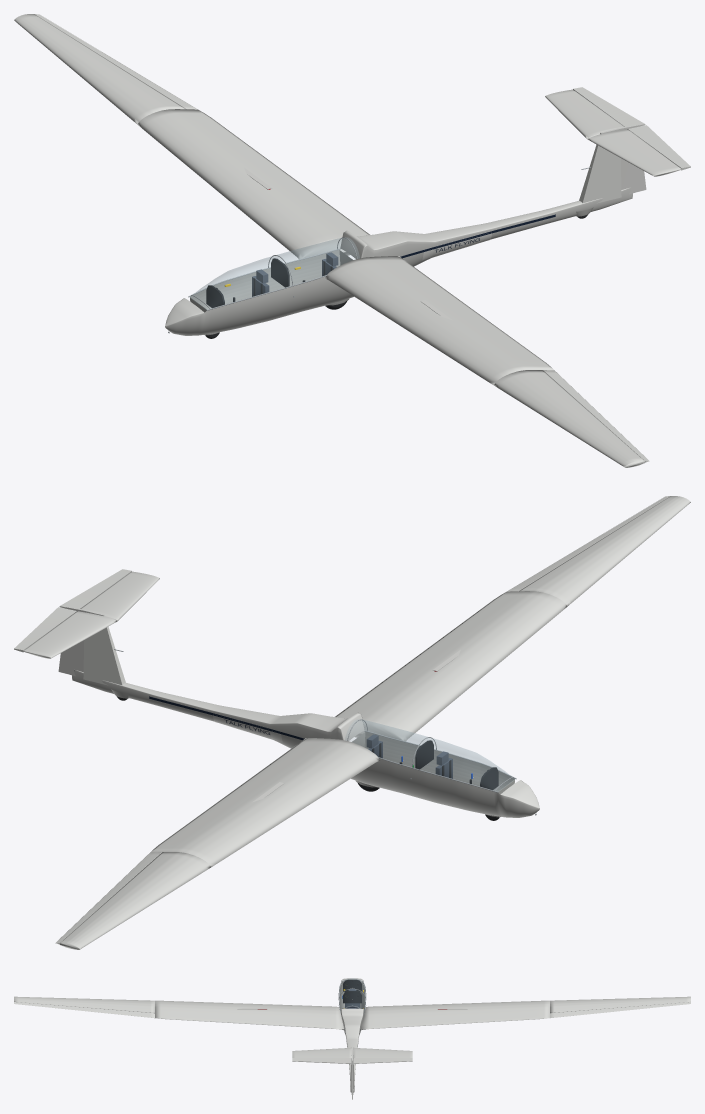
Rendered from glider-grob103-acro-like-own-tf.glb.
3 renders of one model, top to bottom at view 1: azimuth 30°, elevation 25°; view 2: azimuth 150°, elevation 25°; view 3: azimuth 270°, elevation 25°, orthographic. The views are drawn at different scales.
Visible parts, largest first — view 1: Wing_Inner_R, Wing_Inner_L, Fuselage_Painted, Wing_Outer_R, Wing_Outer_L, Canopy_Glass_Front, Canopy_Glass_Rear, Cockpit_Liner, Stabilizer_L, Stabilizer_R, Fin, Aileron_R (+4 smaller); view 2: Wing_Inner_L, Wing_Inner_R, Fuselage_Painted, Wing_Outer_L, Wing_Outer_R, Canopy_Glass_Front, Canopy_Glass_Rear, Cockpit_Liner, Stabilizer_R, Stabilizer_L, Fin, Aileron_L (+4 smaller); view 3: Wing_Inner_L, Wing_Inner_R, Wing_Outer_L, Wing_Outer_R, Fuselage_Painted, Aileron_L, Aileron_R, Stabilizer_L, Stabilizer_R, Canopy_Glass_Rear, Elevator_L, Elevator_R (+3 smaller).
Boxes of the visible parts, left/top/right/bottom form: Wing_Inner_R: left=137, top=109, right=369, bottom=259; Wing_Inner_L: left=324, top=256, right=553, bottom=384; Fuselage_Painted: left=165, top=187, right=632, bottom=335; Wing_Outer_R: left=14, top=14, right=185, bottom=124; Wing_Outer_L: left=494, top=370, right=644, bottom=467; Canopy_Glass_Front: left=189, top=256, right=291, bottom=309; Canopy_Glass_Rear: left=269, top=237, right=359, bottom=284; Cockpit_Liner: left=190, top=249, right=340, bottom=309; Stabilizer_L: left=588, top=129, right=681, bottom=176; Stabilizer_R: left=545, top=89, right=624, bottom=139; Fin: left=579, top=128, right=621, bottom=203; Aileron_R: left=34, top=14, right=197, bottom=109; Wing_Inner_L: left=335, top=591, right=567, bottom=741; Wing_Inner_R: left=151, top=738, right=380, bottom=866; Fuselage_Painted: left=72, top=669, right=539, bottom=817; Wing_Outer_L: left=519, top=496, right=690, bottom=606; Wing_Outer_R: left=60, top=852, right=210, bottom=949; Canopy_Glass_Front: left=413, top=738, right=515, bottom=791; Canopy_Glass_Rear: left=345, top=719, right=435, bottom=766; Cockpit_Liner: left=364, top=731, right=514, bottom=791; Stabilizer_R: left=23, top=611, right=116, bottom=658; Stabilizer_L: left=80, top=571, right=159, bottom=621; Fin: left=83, top=610, right=125, bottom=685; Aileron_L: left=507, top=496, right=670, bottom=591; Wing_Inner_L: left=155, top=1000, right=343, bottom=1029; Wing_Inner_R: left=361, top=1000, right=549, bottom=1029; Wing_Outer_L: left=14, top=996, right=154, bottom=1012; Wing_Outer_R: left=550, top=996, right=690, bottom=1012; Fuselage_Painted: left=341, top=978, right=363, bottom=1094; Aileron_L: left=14, top=1002, right=154, bottom=1018; Aileron_R: left=550, top=1002, right=690, bottom=1018; Stabilizer_L: left=292, top=1047, right=351, bottom=1058; Stabilizer_R: left=353, top=1047, right=412, bottom=1058; Canopy_Glass_Rear: left=339, top=989, right=365, bottom=1011; Elevator_L: left=292, top=1058, right=351, bottom=1063; Elevator_R: left=353, top=1058, right=412, bottom=1063.
Bounding box in the file's own units: 8.18 × 1.81 × 18.
18 materials, 5 textured.
